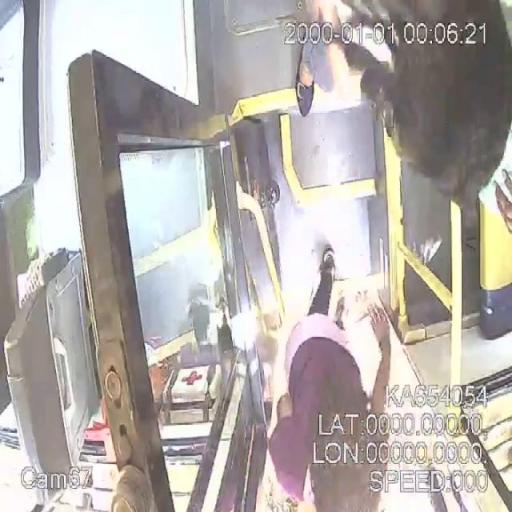persona: (268, 244, 444, 510), (288, 0, 507, 203)
